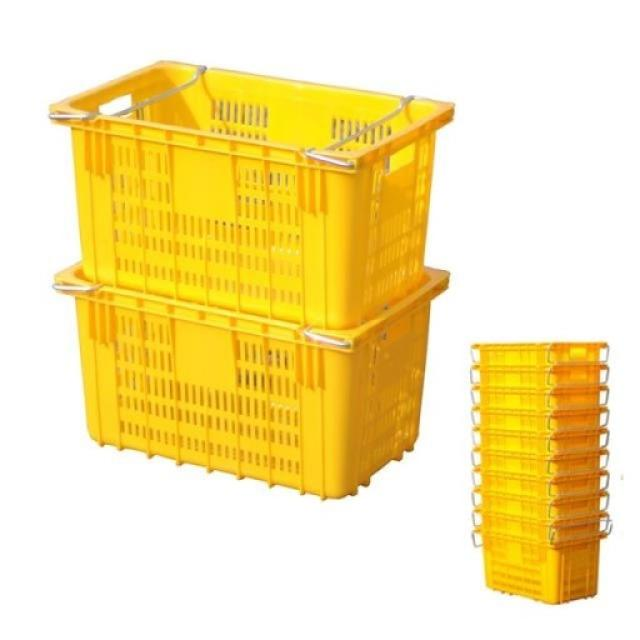basket: (24, 47, 455, 343), (55, 266, 448, 499), (472, 342, 612, 605), (474, 383, 611, 415), (476, 427, 610, 456), (476, 471, 610, 500), (474, 406, 610, 434), (475, 452, 610, 478), (474, 364, 610, 389), (474, 342, 610, 366)
